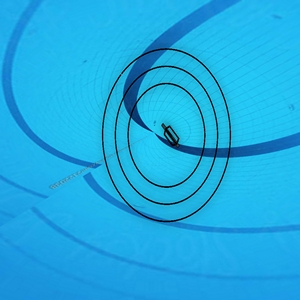circle: (100, 50, 232, 225)
submarine: (159, 121, 181, 148)
